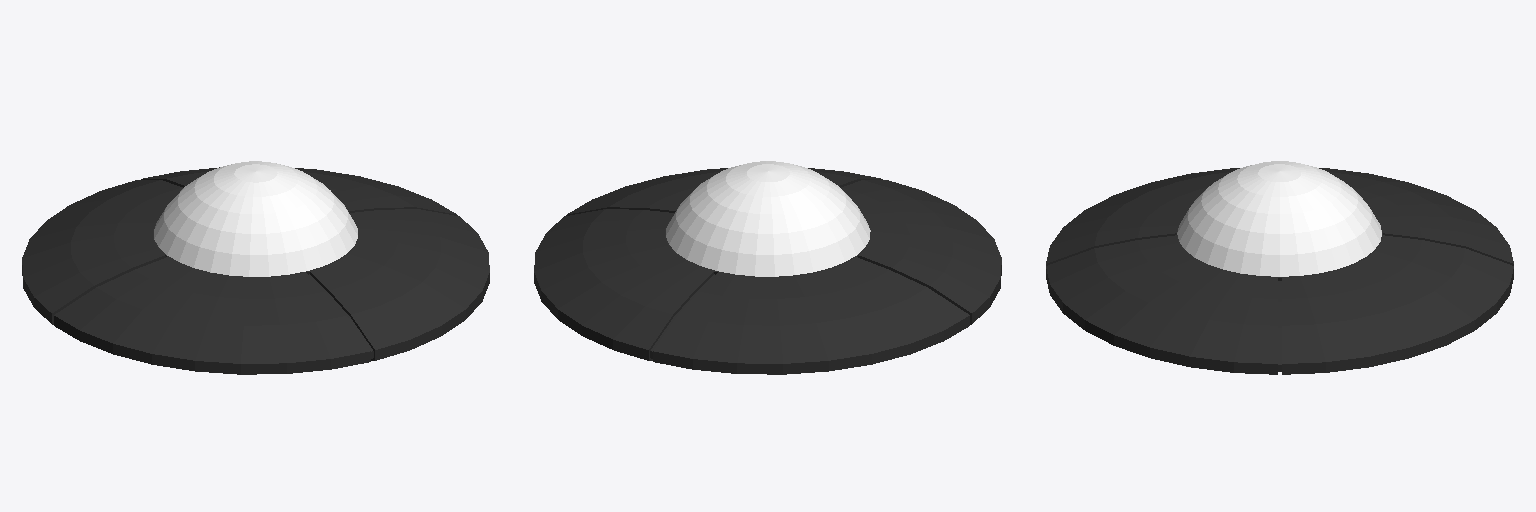
Rendered from ufo2Model.obj.
The picture shows the model from 3 angles: view 1: azimuth 30°, elevation 25°; view 2: azimuth 150°, elevation 25°; view 3: azimuth 270°, elevation 25°; orthographic projection.
Parts seen in each view (by area): view 1: UFO_body, UFO_cockpit; view 2: UFO_body, UFO_cockpit; view 3: UFO_body, UFO_cockpit.
Boxes of the visible parts, x1=… form: UFO_body: x1=22, y1=167, x2=489, y2=374; UFO_cockpit: x1=154, y1=161, x2=357, y2=276; UFO_body: x1=534, y1=168, x2=1001, y2=374; UFO_cockpit: x1=666, y1=161, x2=870, y2=276; UFO_body: x1=1046, y1=168, x2=1513, y2=374; UFO_cockpit: x1=1177, y1=161, x2=1381, y2=276.
Bounding box in the file's own units: 13.57 × 5.41 × 13.57.